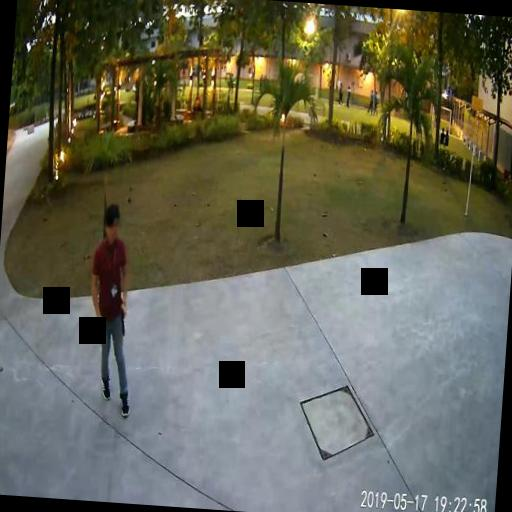Handgun: (118, 303, 126, 335)
